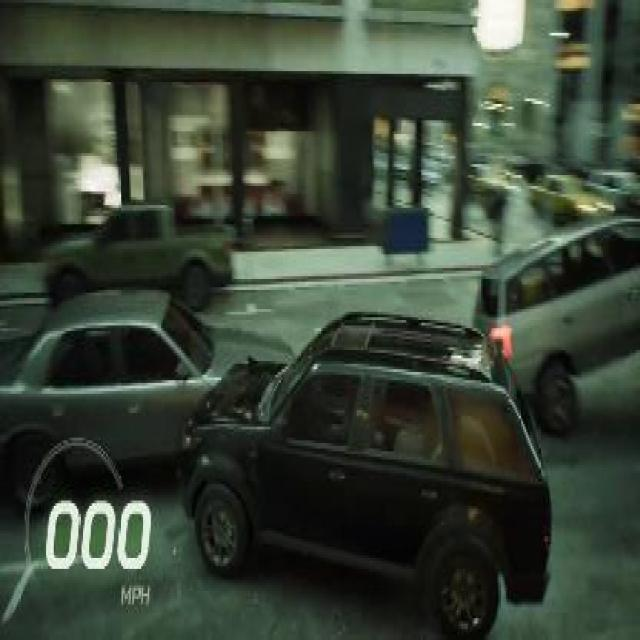accident: (0, 293, 557, 637), (476, 206, 638, 434)
